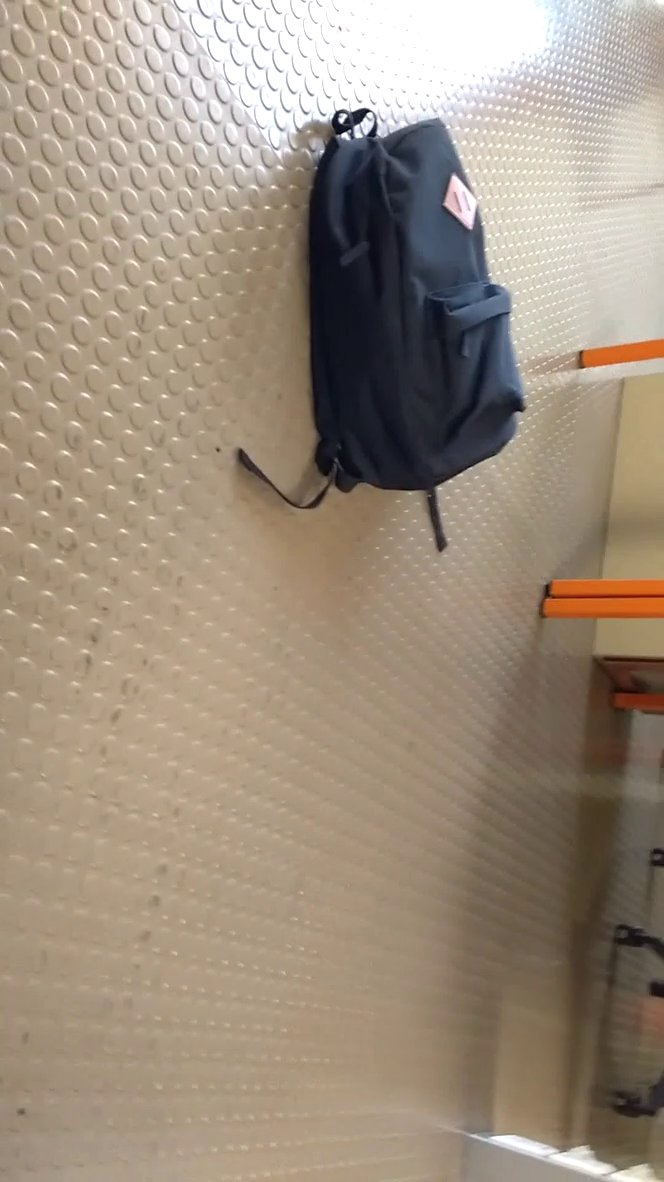bag: (231, 97, 546, 567)
